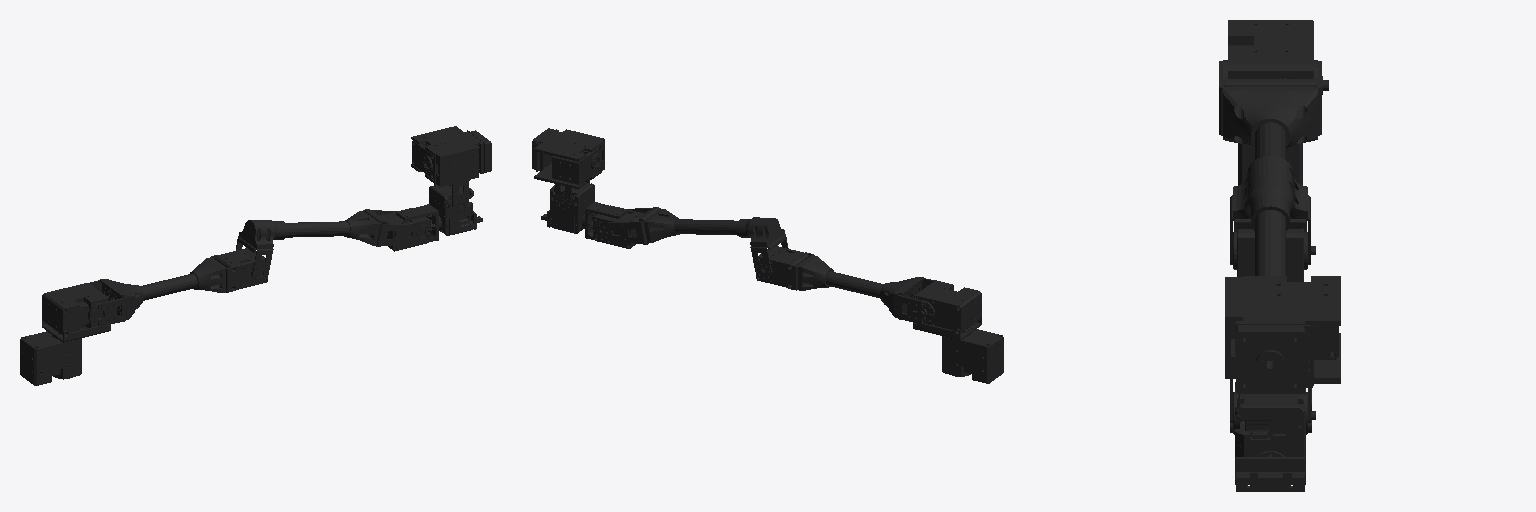
URDF robot description (LIMBERO):
<?xml version="1.0" ?>
<!-- =================================================================================== -->
<!-- |    This document was autogenerated by xacro from LIMBERO_UPDATE.xacro           | -->
<!-- |    EDITING THIS FILE BY HAND IS NOT RECOMMENDED                                 | -->
<!-- =================================================================================== -->
<robot name="LIMBERO">
  <gazebo>
    <!-- ros_control plugin -->
    <plugin filename="libgazebo_ros2_control.so" name="gazebo_ros2_control">
      <parameters>[local-path]/lbr_ws/install/lbr_description/share/lbr_description/config/lbr_controller_with_grieel.yaml</parameters>
    </plugin>
  </gazebo>
  <!-- Use macro to define base and four limbs -->
  <!-- <xacro:base_macro/> -->
<!--   <joint name="LF_joint" type="fixed">
    <origin rpy="0 0 0.7853981633974483" xyz="0.14142135623730953 0.1414213562373095 0"/>
    <parent link="base_link"/>
    <child link="LF_limb_root"/>
  </joint> -->
  
  <link name="world"/>
  <joint name="limb_attachment" type="fixed">
    <origin xyz="0 0 0" rpy="0 0 0"/>
    <parent link="world"/>
    <child link="LF_limb_root"/>
  </joint>

  <link name="LF_limb_root">
    <inertial>
      <origin rpy="0 0 0" xyz="-0.015029 -7.7571E-11 -0.047318"/>
      <mass value="0.08459"/>
      <inertia ixx="2.1548E-05" ixy="-4.775E-14" ixz="-1.6188E-07" iyy="3.834E-05" iyz="-8.2973E-14" izz="3.1728E-05"/>
    </inertial>
    <visual>
      <origin rpy="0 0 0" xyz="0 0 0"/>
      <geometry>
        <mesh filename="meshes/limb_root.STL"/>
      </geometry>
      <material name="">
        <color rgba="0.2 0.2 0.2 1"/>
      </material>
    </visual>
    <collision>
      <origin rpy="0 0 0" xyz="0 0 0"/>
      <geometry>
        <mesh filename="meshes/limb_root.STL"/>
      </geometry>
    </collision>
  </link>
  <link name="LF_coxa">
    <inertial>
      <origin rpy="0 0 0" xyz="0.015938 0.00063302 -0.0015013"/>
      <mass value="0.09109"/>
      <inertia ixx="2.352E-05" ixy="-1.6188E-07" ixz="4.775E-14" iyy="3.3634E-05" iyz="8.2973E-14" izz="4.2122E-05"/>
    </inertial>
    <visual>
      <origin rpy="0 0 0" xyz="0 0 0"/>
      <geometry>
        <mesh filename="meshes/coxa.STL"/>
      </geometry>
      <material name="">
        <color rgba="0.2 0.2 0.2 1"/>
      </material>
    </visual>
    <collision>
      <origin rpy="0 0 0" xyz="0 0 0"/>
      <geometry>
        <mesh filename="meshes/coxa.STL"/>
      </geometry>
    </collision>
  </link>
  <joint name="LF_B2C" type="revolute">
    <origin rpy="0 0 0" xyz="0 0 0"/>
    <parent link="LF_limb_root"/>
    <child link="LF_coxa"/>
    <axis xyz="0 0 1"/>
    <limit effort="5" lower="-3.14" upper="3.14" velocity="5"/>
    <dynamics damping="0.1" friction="0.4"/>
  </joint>
  <link name="LF_femur">
    <inertial>
      <origin rpy="0 0 0" xyz="0.10083 0.00014739 -3.217E-08"/>
      <mass value="0.12821"/>
      <inertia ixx="3.7005E-05" ixy="-1.9987E-08" ixz="-3.8346E-12" iyy="2.9934E-05" iyz="2.5988E-11" izz="4.8164E-05"/>
    </inertial>
    <visual>
      <origin rpy="0 0 0" xyz="0 0 0"/>
      <geometry>
        <mesh filename="meshes/femur.STL"/>
      </geometry>
      <material name="">
        <color rgba="0.2 0.2 0.2 1"/>
      </material>
    </visual>
    <collision>
      <origin rpy="0 0 0" xyz="0 0 0"/>
      <geometry>
        <mesh filename="meshes/femur.STL"/>
      </geometry>
    </collision>
  </link>
  <joint name="LF_C2F" type="revolute">
    <origin rpy="0 0 0" xyz="0.031 0 0"/>
    <parent link="LF_coxa"/>
    <child link="LF_femur"/>
    <axis xyz="0 1 0"/>
    <limit effort="5" lower="-3.14" upper="3.14" velocity="5"/>
    <dynamics damping="0.1" friction="0.4"/>
  </joint>
  <link name="LF_tibia">
    <inertial>
      <origin rpy="0 0 0" xyz="0.10298 1.1638E-07 0.019231"/>
      <mass value="0.061841"/>
      <inertia ixx="1.5486E-05" ixy="4.7072E-09" ixz="2.5637E-06" iyy="2.1826E-05" iyz="2.414E-08" izz="2.8843E-05"/>
    </inertial>
    <visual>
      <origin rpy="0 0 0" xyz="0 0 0"/>
      <geometry>
        <mesh filename="meshes/tibia.STL"/>
      </geometry>
      <material name="">
        <color rgba="0.2 0.2 0.2 1"/>
      </material>
    </visual>
    <collision>
      <origin rpy="0 0 0" xyz="0 0 0"/>
      <geometry>
        <mesh filename="meshes/tibia.STL"/>
      </geometry>
    </collision>
  </link>
  <joint name="LF_F2T" type="revolute">
    <origin rpy="0 0 0" xyz="0.2 0 0"/>
    <parent link="LF_femur"/>
    <child link="LF_tibia"/>
    <axis xyz="0 1 0"/>
    <limit effort="5" lower="-3.14" upper="3.14" velocity="5"/>
    <dynamics damping="0.1" friction="0.4"/>
  </joint>
  <link name="LF_limb_end">
    <inertial>
      <origin rpy="0 0 0" xyz="-0.011645 0.00042918 -9.53E-12"/>
      <mass value="0.081999"/>
      <inertia ixx="1.3061E-05" ixy="-3.7211E-08" ixz="3.1094E-14" iyy="1.9634E-05" iyz="-3.9438E-17" izz="2.2308E-05"/>
    </inertial>
    <visual>
      <origin rpy="0 0 0" xyz="0 0 0"/>
      <geometry>
        <mesh filename="meshes/limb_end.STL"/>
      </geometry>
      <material name="">
        <color rgba="0.2 0.2 0.2 1"/>
      </material>
    </visual>
    <collision>
      <origin rpy="0 0 0" xyz="0 0 0"/>
      <geometry>
        <mesh filename="meshes/limb_end.STL"/>
      </geometry>
    </collision>
  </link>
  <joint name="LF_T2E" type="revolute">
    <origin rpy="0 0 0" xyz="0.2 0 0"/>
    <parent link="LF_tibia"/>
    <child link="LF_limb_end"/>
    <axis xyz="0 1 0"/>
    <limit effort="5" lower="-3.14" upper="3.14" velocity="5"/>
    <dynamics damping="0.1" friction="0.4"/>
  </joint>
  <!-- <xacro:limb_macro prefix="LH" parent="base_link" radius="135"/>
  <xacro:limb_macro prefix="RH" parent="base_link" radius="225"/>
  <xacro:limb_macro prefix="RF" parent="base_link" radius="315"/> -->
  <joint name="LF_E2grieel" type="fixed">
    <origin rpy="-1.5708 0 0" xyz="0 0 0"/>
    <parent link="LF_limb_end"/>
    <child link="LF_wristH_Link"/>
    <!-- <axis
        xyz="0 1 0" />
      <limit
        lower="0"
        upper="0"
        effort="0"
        velocity="0" /> -->
  </joint>
  <link name="LF_wristH_Link">
    <inertial>
      <origin rpy="0 0 0" xyz="0.011821 8.7424E-07 4.3619E-14"/>
      <mass value="0.00824"/>
      <inertia ixx="1.7943E-06" ixy="-3.8552E-19" ixz="7.4101E-19" iyy="2.9379E-06" iyz="-2.3646E-09" izz="1.6633E-06"/>
    </inertial>
    <visual>
      <origin rpy="0 0 0" xyz="0 0 0"/>
      <geometry>
        <mesh filename="meshes/Grieel_gripper_mode/wristH_Link.STL"/>
      </geometry>
      <material name="">
        <color rgba="0.2 0.2 0.2 1"/>
      </material>
    </visual>
    <collision>
      <origin rpy="0 0 0" xyz="0 0 0"/>
      <geometry>
        <mesh filename="meshes/Grieel_gripper_mode/wristH_Link.STL"/>
      </geometry>
    </collision>
  </link>
  <link name="LF_wristV_Link">
    <inertial>
      <origin rpy="0 0 0" xyz="0.0214166502499745 0.000471129500725836 0.0113219457469963"/>
      <mass value="0.102059813857681"/>
      <inertia ixx="2.51506057023328E-05" ixy="-5.87568310882068E-07" ixz="-5.02138918625881E-10" iyy="2.47069145197251E-05" iyz="-1.3142285327366E-09" izz="1.79824315026287E-05"/>
    </inertial>
    <visual>
      <origin rpy="0 0 0" xyz="0 0 0"/>
      <geometry>
        <mesh filename="meshes/Grieel_gripper_mode/wristV_Link.STL"/>
      </geometry>
      <material name="">
        <color rgba="0.2 0.2 0.2 1"/>
      </material>
    </visual>
    <collision>
      <origin rpy="0 0 0" xyz="0 0 0"/>
      <geometry>
        <mesh filename="meshes/Grieel_gripper_mode/wristV_Link.STL"/>
      </geometry>
    </collision>
  </link>
  <joint name="LF_wristH" type="revolute">
    <origin rpy="1.5708 0 0" xyz="0.025851 0 0"/>
    <parent link="LF_wristH_Link"/>
    <child link="LF_wristV_Link"/>
    <axis xyz="1 0 0"/>
    <limit effort="5" lower="-3.14159265358" upper="3.14159265358" velocity="5"/>
    <dynamics damping="0.1" friction="0.4"/>
  </joint>
  <link name="LF_driving_Link">
    <inertial>
      <origin rpy="0 0 0" xyz="5.44808065291863E-05 0.00431293338596027 0.0448909989385787"/>
      <mass value="0.132659951311712"/>
      <inertia ixx="3.76031003493078E-05" ixy="1.06164546307058E-08" ixz="7.08867360655478E-09" iyy="3.46919596241853E-05" iyz="4.14273177876885E-09" izz="4.32511275712205E-05"/>
    </inertial>
    <visual>
      <origin rpy="0 0 0" xyz="0 0 0"/>
      <geometry>
        <mesh filename="meshes/Grieel_gripper_mode/driving_Link.STL"/>
      </geometry>
      <material name="">
        <color rgba="0.2 0.2 0.2 1"/>
      </material>
    </visual>
    <collision>
      <origin rpy="0 0 0" xyz="0 0 0"/>
      <geometry>
        <mesh filename="meshes/Grieel_gripper_mode/driving_Link.STL"/>
      </geometry>
    </collision>
  </link>
  <joint name="LF_wristV" type="revolute">
    <origin rpy="0 0 0" xyz="0.0209 0 0.024008"/>
    <parent link="LF_wristV_Link"/>
    <child link="LF_driving_Link"/>
    <axis xyz="0 1 0"/>
    <limit effort="5" lower="-0.78539816339" upper="1.57079632679" velocity="5"/>
    <dynamics damping="0.1" friction="0.4"/>
  </joint>
  <link name="LF_gripper_Link">
    <inertial>
      <origin rpy="0 0 0" xyz="0.0710296935233056 0.0037135355484196 -0.00222742536711223"/>
      <mass value="0.415840817883391"/>
      <inertia ixx="0.000103581229161757" ixy="-5.56154912627397E-07" ixz="1.25700028997968E-06" iyy="5.98220979474832E-05" iyz="-5.92848495250994E-08" izz="8.09792661333327E-05"/>
    </inertial>
    <visual>
      <origin rpy="0 0 0" xyz="0 0 0"/>
      <geometry>
        <mesh filename="meshes/Grieel_gripper_mode/gripper_Link.STL"/>
      </geometry>
      <material name="">
        <color rgba="0.2 0.2 0.2 1"/>
      </material>
    </visual>
    <collision name="LF_gripper_Link_collision">
      <origin rpy="0 0 0" xyz="0 0 0"/>
      <geometry>
        <mesh filename="meshes/Grieel_gripper_mode/gripper_Link.STL"/>
      </geometry>
    </collision>
  </link>
  <joint name="LF_driving" type="continuous">
    <origin rpy="0 0 0" xyz="0.0131 0 0.04576"/>
    <parent link="LF_driving_Link"/>
    <child link="LF_gripper_Link"/>
    <axis xyz="-1 0 0"/>
    <dynamics damping="0.1" friction="0.4"/>
  </joint>
  <!-- Gazebo plugin for contact sensor, collision name like that because of parsing errors in the urdf  -->
  <gazebo reference="LF_gripper_Link">
    <sensor name="LF_gripper_bumper_sensor" type="contact">
      <always_on>true</always_on>
      <update_rate>100</update_rate>
      <contact>
        <collision>LF_gripper_Link_collision_collision</collision>
      </contact>
      <plugin filename="libgazebo_ros_bumper.so" name="LF_gripper_bumper">
        <ros>
          <namespace>LF</namespace>
        </ros>
        <frame_name>LF_gripper_link</frame_name>
      </plugin>
    </sensor>
  </gazebo>
  <!-- <xacro:grieel_gripper_macro prefix="LH" parent="LH"/>
    <xacro:grieel_gripper_macro prefix="RH" parent="RH"/>
    <xacro:grieel_gripper_macro prefix="RF" parent="RF"/> -->
  <ros2_control name="LF_ros2_control" type="system">
    <hardware>
      <plugin>gazebo_ros2_control/GazeboSystem</plugin>
    </hardware>
    <joint name="LF_B2C">
      <command_interface name="position">
        <param name="min">-10</param>
        <param name="max">10</param>
      </command_interface>
      <command_interface name="velocity">
        <param name="min">-0.5</param>
        <param name="max">0.5</param>
      </command_interface>
      <command_interface name="effort">
        <param name="min">-10</param>
        <param name="max">10</param>
      </command_interface>
      <state_interface name="position">
        <!-- Set initial joint position -->
        <param name="initial_value"> 0.0 </param>
      </state_interface>
      <state_interface name="velocity"/>
    </joint>
    <joint name="LF_C2F">
      <command_interface name="position">
        <param name="min">-10</param>
        <param name="max">10</param>
      </command_interface>
      <command_interface name="velocity">
        <param name="min">-0.5</param>
        <param name="max">0.5</param>
      </command_interface>
      <command_interface name="effort">
        <param name="min">-10</param>
        <param name="max">10</param>
      </command_interface>
      <state_interface name="position">
        <param name="initial_value"> 0.0 </param>
      </state_interface>
      <state_interface name="velocity"/>
    </joint>
    <joint name="LF_F2T">
      <command_interface name="position">
        <param name="min">-10</param>
        <param name="max">10</param>
      </command_interface>
      <command_interface name="velocity">
        <param name="min">-0.5</param>
        <param name="max">0.5</param>
      </command_interface>
      <command_interface name="effort">
        <param name="min">-10</param>
        <param name="max">10</param>
      </command_interface>
      <state_interface name="position">
        <param name="initial_value"> 1.5707963267948966 </param>
      </state_interface>
      <state_interface name="velocity"/>
    </joint>
    <joint name="LF_T2E">
      <command_interface name="position">
        <param name="min">-10</param>
        <param name="max">10</param>
      </command_interface>
      <command_interface name="velocity">
        <param name="min">-0.5</param>
        <param name="max">0.5</param>
      </command_interface>
      <command_interface name="effort">
        <param name="min">-10</param>
        <param name="max">10</param>
      </command_interface>
      <state_interface name="position">
        <param name="initial_value"> 0.0 </param>
      </state_interface>
      <state_interface name="velocity"/>
    </joint>
    <joint name="LF_wristH">
      <command_interface name="position">
        <param name="min">-10</param>
        <param name="max">10</param>
      </command_interface>
      <command_interface name="velocity">
        <param name="min">-0.5</param>
        <param name="max">0.5</param>
      </command_interface>
      <command_interface name="effort">
        <param name="min">-10</param>
        <param name="max">10</param>
      </command_interface>
      <state_interface name="position">
        <param name="initial_value"> 0.0 </param>
      </state_interface>
      <state_interface name="velocity"/>
    </joint>
    <joint name="LF_wristV">
      <command_interface name="position">
        <param name="min">-10</param>
        <param name="max">10</param>
      </command_interface>
      <command_interface name="velocity">
        <param name="min">-0.5</param>
        <param name="max">0.5</param>
      </command_interface>
      <command_interface name="effort">
        <param name="min">-10</param>
        <param name="max">10</param>
      </command_interface>
      <state_interface name="position">
        <param name="initial_value"> 0.0 </param>
      </state_interface>
      <state_interface name="velocity"/>
    </joint>
    <joint name="LF_driving">
      <command_interface name="position">
        <param name="min">-10</param>
        <param name="max">10</param>
      </command_interface>
      <command_interface name="velocity">
        <param name="min">-0.5</param>
        <param name="max">0.5</param>
      </command_interface>
      <command_interface name="effort">
        <param name="min">-10</param>
        <param name="max">10</param>
      </command_interface>
      <state_interface name="position">
        <param name="initial_value"> 0.0 </param>
      </state_interface>
      <state_interface name="velocity"/>
    </joint>
  </ros2_control>
  <!-- <xacro:ros2_control_macro prefix="LH"/>
  <xacro:ros2_control_macro prefix="RH"/>
  <xacro:ros2_control_macro prefix="RF"/> -->
  <!-- Gazebo plugin for joint state publisher  -->
  <gazebo>
    <plugin filename="libgazebo_ros_joint_state_publisher.so" name="LF_joint_state">
      <ros>
        <namespace>LF</namespace>
        <remapping>~/out:=joint_states</remapping>
      </ros>
      <update_rate>30</update_rate>
      <!-- <joint_name>${prefix}_E2grieel</joint_name> -->
      <joint_name>LF_B2C</joint_name>
      <joint_name>LF_C2F</joint_name>
      <joint_name>LF_F2T</joint_name>
      <joint_name>LF_T2E</joint_name>
      <joint_name>LF_wristH</joint_name>
      <joint_name>LF_wristV</joint_name>
      <joint_name>LF_driving</joint_name>
    </plugin>
  </gazebo>
  <!-- <xacro:joint_state_macro prefix="LH"/>
  <xacro:joint_state_macro prefix="RH"/>
  <xacro:joint_state_macro prefix="RF"/> -->
  <gazebo reference="LF_gripper_Link">
    <mu1>0.5</mu1>
    <mu2>0.5</mu2>
    <kp>1000000</kp>
    <kd>1.0</kd>
  </gazebo>
  <gazebo reference="LF_femur">
    <material>Gazebo/Black</material>
    <visual>
      <material>
        <ambient>0.2 0.2 0.2 1</ambient>
        <diffuse>0.2 0.2 0.2 1</diffuse>
        <specular>0.01 0.01 0.01 1</specular>
        <emissive>0.01 0.01 0.01 1</emissive>
      </material>
    </visual>
  </gazebo>
  <gazebo reference="LF_tibia">
    <material>Gazebo/Black</material>
    <visual>
      <material>
        <ambient>0.2 0.2 0.2 1</ambient>
        <diffuse>0.2 0.2 0.2 1</diffuse>
        <specular>0.01 0.01 0.01 1</specular>
        <emissive>0.01 0.01 0.01 1</emissive>
      </material>
    </visual>
  </gazebo>
  <gazebo reference="LF_limb_end">
    <material>Gazebo/Black</material>
    <visual>
      <material>
        <ambient>0.2 0.2 0.2 1</ambient>
        <diffuse>0.2 0.2 0.2 1</diffuse>
        <specular>0.01 0.01 0.01 1</specular>
        <emissive>0.01 0.01 0.01 1</emissive>
      </material>
    </visual>
  </gazebo>
  <gazebo reference="LF_limb_root">
    <material>Gazebo/Black</material>
    <visual>
      <material>
        <ambient>0.2 0.2 0.2 1</ambient>
        <diffuse>0.2 0.2 0.2 1</diffuse>
        <specular>0.01 0.01 0.01 1</specular>
        <emissive>0.01 0.01 0.01 1</emissive>
      </material>
    </visual>
  </gazebo>
  <gazebo reference="LF_coxa">
    <material>Gazebo/Black</material>
    <visual>
      <material>
        <ambient>0.2 0.2 0.2 1</ambient>
        <diffuse>0.2 0.2 0.2 1</diffuse>
        <specular>0.01 0.01 0.01 1</specular>
        <emissive>0.01 0.01 0.01 1</emissive>
      </material>
    </visual>
  </gazebo>
  <gazebo reference="LF_wristH_Link">
    <material>Gazebo/Black</material>
    <visual>
      <material>
        <ambient>0.2 0.2 0.2 1</ambient>
        <diffuse>0.2 0.2 0.2 1</diffuse>
        <specular>0.01 0.01 0.01 1</specular>
        <emissive>0.01 0.01 0.01 1</emissive>
      </material>
    </visual>
  </gazebo>
  <gazebo reference="LF_wristV_Link">
    <material>Gazebo/Black</material>
    <visual>
      <material>
        <ambient>0.2 0.2 0.2 1</ambient>
        <diffuse>0.2 0.2 0.2 1</diffuse>
        <specular>0.01 0.01 0.01 1</specular>
        <emissive>0.01 0.01 0.01 1</emissive>
      </material>
    </visual>
  </gazebo>
  <gazebo reference="LF_driving_Link">
    <material>Gazebo/Black</material>
    <visual>
      <material>
        <ambient>0.2 0.2 0.2 1</ambient>
        <diffuse>0.2 0.2 0.2 1</diffuse>
        <specular>0.01 0.01 0.01 1</specular>
        <emissive>0.01 0.01 0.01 1</emissive>
      </material>
    </visual>
  </gazebo>
  <gazebo reference="LF_gripper_Link">
    <material>Gazebo/Black</material>
    <visual>
      <material>
        <ambient>0.2 0.2 0.2 1</ambient>
        <diffuse>0.2 0.2 0.2 1</diffuse>
        <specular>0.01 0.01 0.01 1</specular>
        <emissive>0.01 0.01 0.01 1</emissive>
      </material>
    </visual>
  </gazebo>
  <gazebo reference="LF_wheel_Link">
    <material>Gazebo/Black</material>
    <visual>
      <material>
        <ambient>0.2 0.2 0.2 1</ambient>
        <diffuse>0.2 0.2 0.2 1</diffuse>
        <specular>0.01 0.01 0.01 1</specular>
        <emissive>0.01 0.01 0.01 1</emissive>
      </material>
    </visual>
  </gazebo>
  <!-- <xacro:gazebo_phisics_macro prefix="LH"/>
  <xacro:gazebo_phisics_macro prefix="RH"/>
  <xacro:gazebo_phisics_macro prefix="RF"/> -->
</robot>

--- Facts derived from the render (not from the file) ---
The picture shows the robot from 3 angles, left to right: view 1: azimuth 30°, elevation 25°; view 2: azimuth 150°, elevation 25°; view 3: azimuth 270°, elevation 25°; orthographic projection.
Robot: LIMBERO — 10 links, 9 joints (6 revolute, 1 continuous, 2 fixed); root link world; default pose: all joints at 0.
Visible links, largest first — view 1: LF_femur, LF_tibia, LF_driving_Link, LF_coxa, LF_limb_root, LF_wristV_Link, LF_limb_end, LF_wristH_Link; view 2: LF_femur, LF_tibia, LF_driving_Link, LF_coxa, LF_limb_root, LF_wristV_Link, LF_limb_end, LF_wristH_Link; view 3: LF_driving_Link, LF_femur, LF_wristV_Link, LF_tibia, LF_coxa, LF_limb_root.
Link boxes in pixels (<box>): LF_femur: <box>90,248,267,326</box>; LF_tibia: <box>236,209,426,275</box>; LF_driving_Link: <box>411,126,491,207</box>; LF_coxa: <box>42,283,110,342</box>; LF_limb_root: <box>20,331,81,385</box>; LF_wristV_Link: <box>429,184,482,235</box>; LF_limb_end: <box>380,208,430,251</box>; LF_wristH_Link: <box>396,204,440,241</box>; LF_femur: <box>756,246,934,324</box>; LF_tibia: <box>597,207,788,273</box>; LF_driving_Link: <box>532,128,604,205</box>; LF_coxa: <box>913,280,981,339</box>; LF_limb_root: <box>942,329,1003,383</box>; LF_wristV_Link: <box>541,183,594,233</box>; LF_limb_end: <box>593,205,643,248</box>; LF_wristH_Link: <box>583,202,627,239</box>; LF_driving_Link: <box>1225,276,1340,422</box>; LF_femur: <box>1219,61,1321,281</box>; LF_wristV_Link: <box>1233,382,1307,491</box>; LF_tibia: <box>1230,156,1311,432</box>; LF_coxa: <box>1223,20,1328,94</box>; LF_limb_root: <box>1238,143,1302,185</box>.
Bounding box of the posed robot: 0.5636 × 0.0627 × 0.16 m (x, y, z).
8 mesh visuals loaded from 9 distinct referenced files (8 binary STL); not drawn: 1 (reference not matched to a file when rendering).